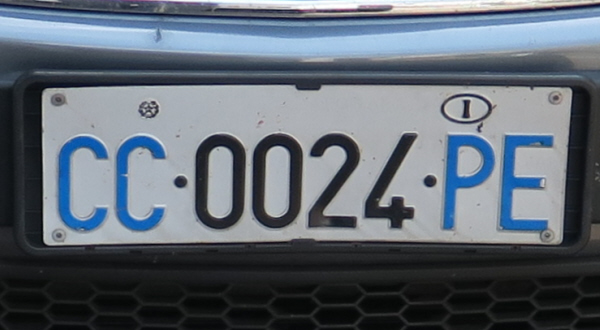license_plate: (38, 87, 573, 245)
